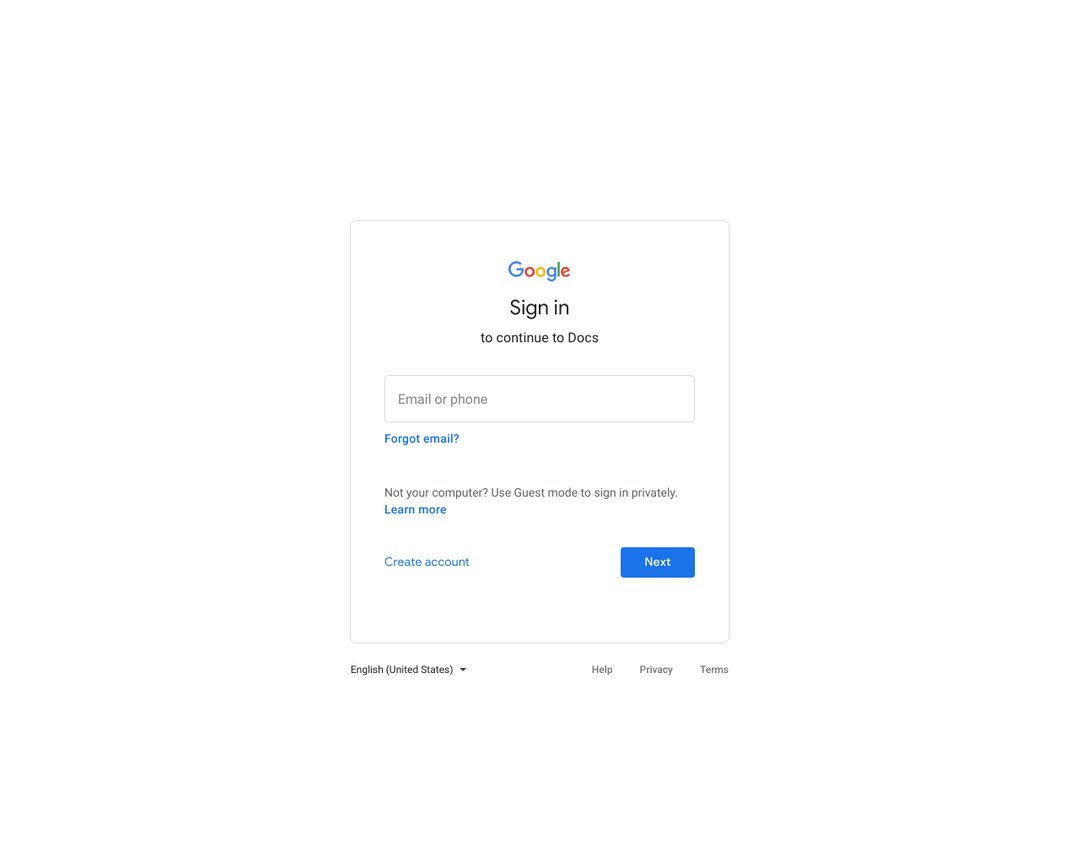Google: (502, 259, 573, 283)
